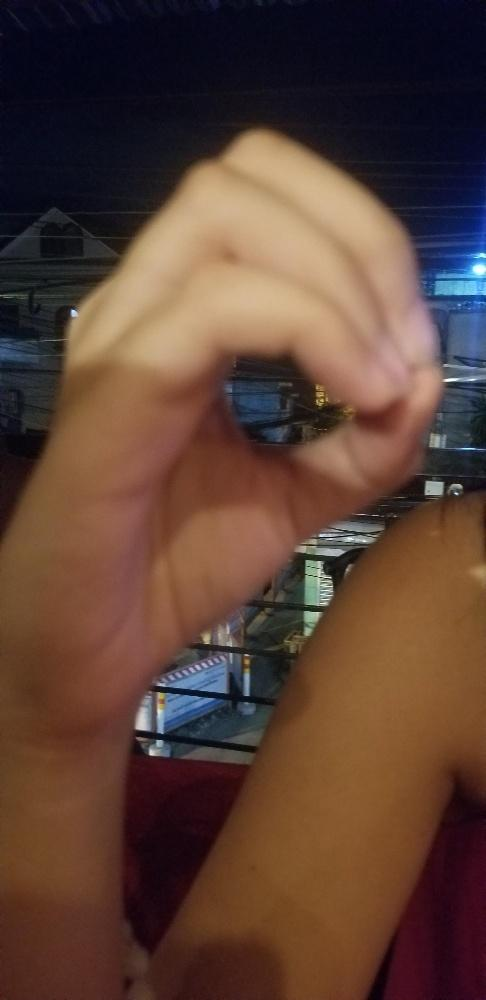o: (50, 124, 446, 665)
